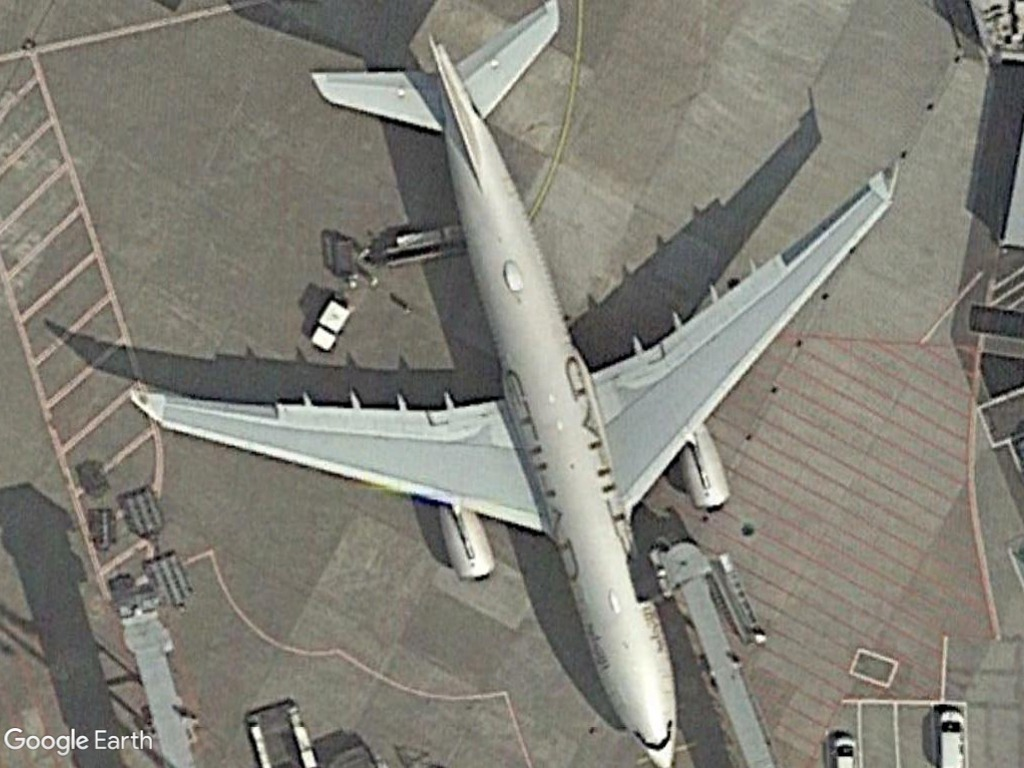airliner: (126, 9, 912, 768)
van: (935, 708, 970, 768)
